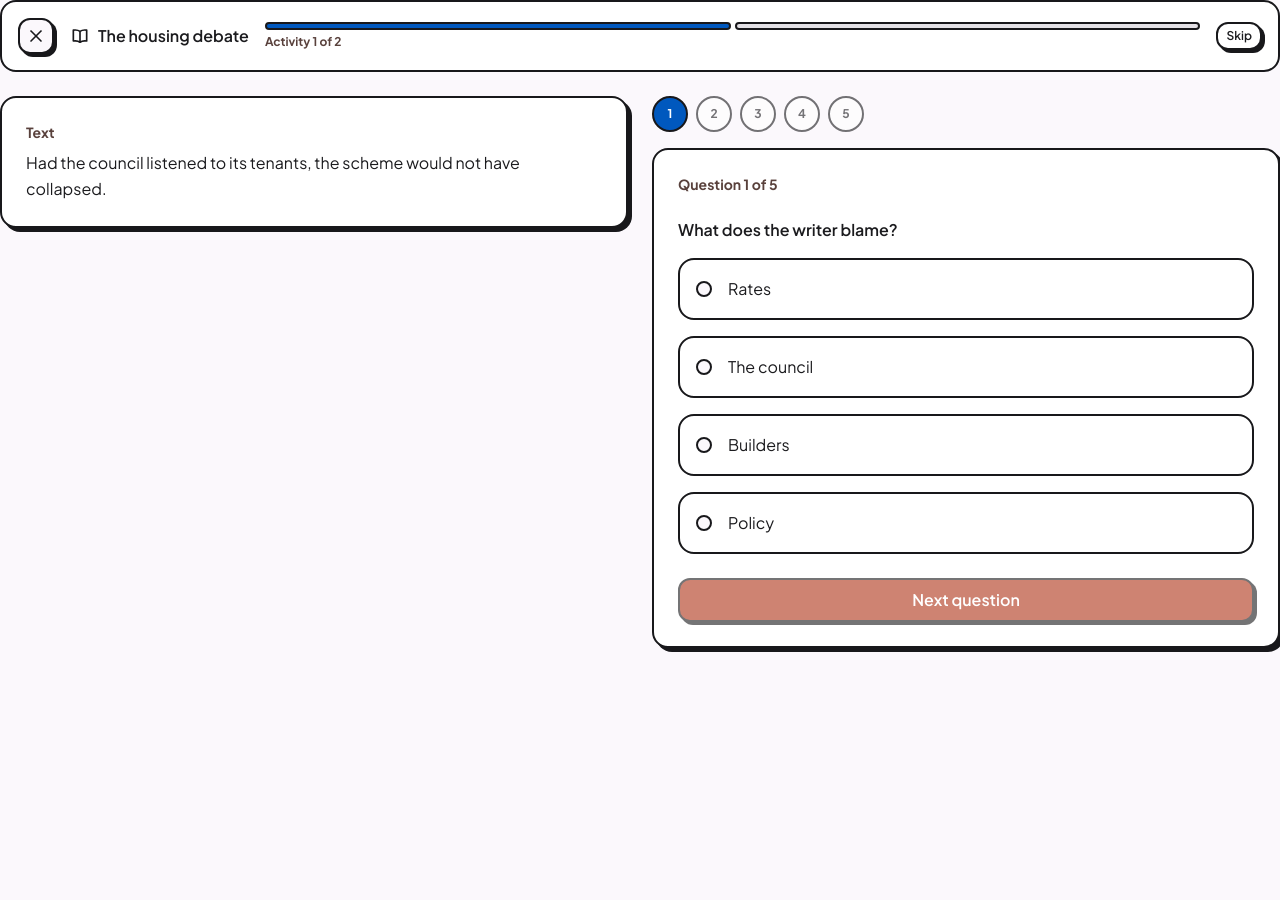
Scenario: ObjectiveRunner: answering › next_locks_the_answer_and_answered_questions_are_read_only
Expected: the element showing "Rates The council Builders Policy" is shown, x1=678 y1=258 x2=1254 y2=554
Step 1. Click the radio button labelled "The council" → (771, 366), box x1=678 y1=336 x2=1254 y2=398
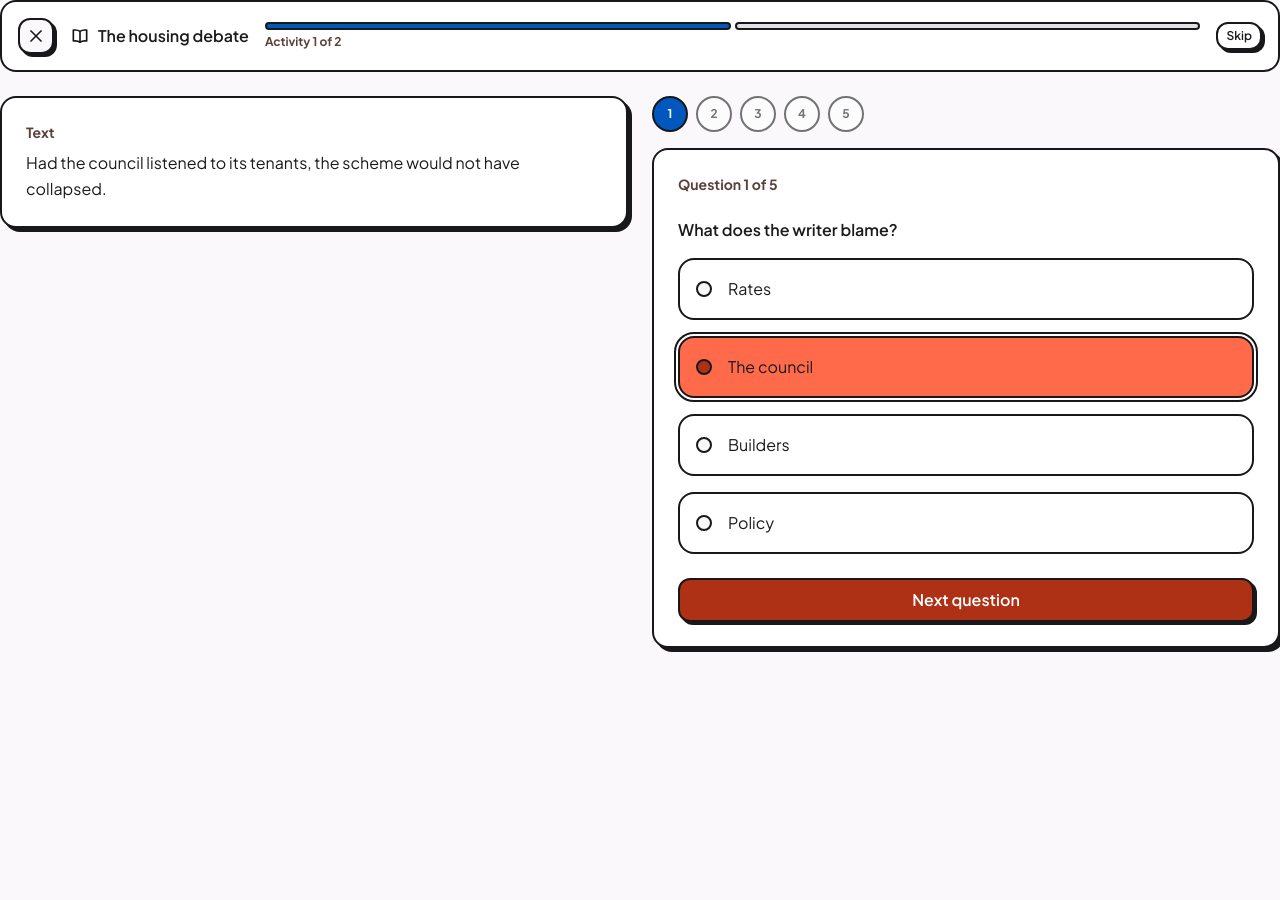
Step 2. Click the button "Next question" → (966, 600), box x1=678 y1=578 x2=1254 y2=622
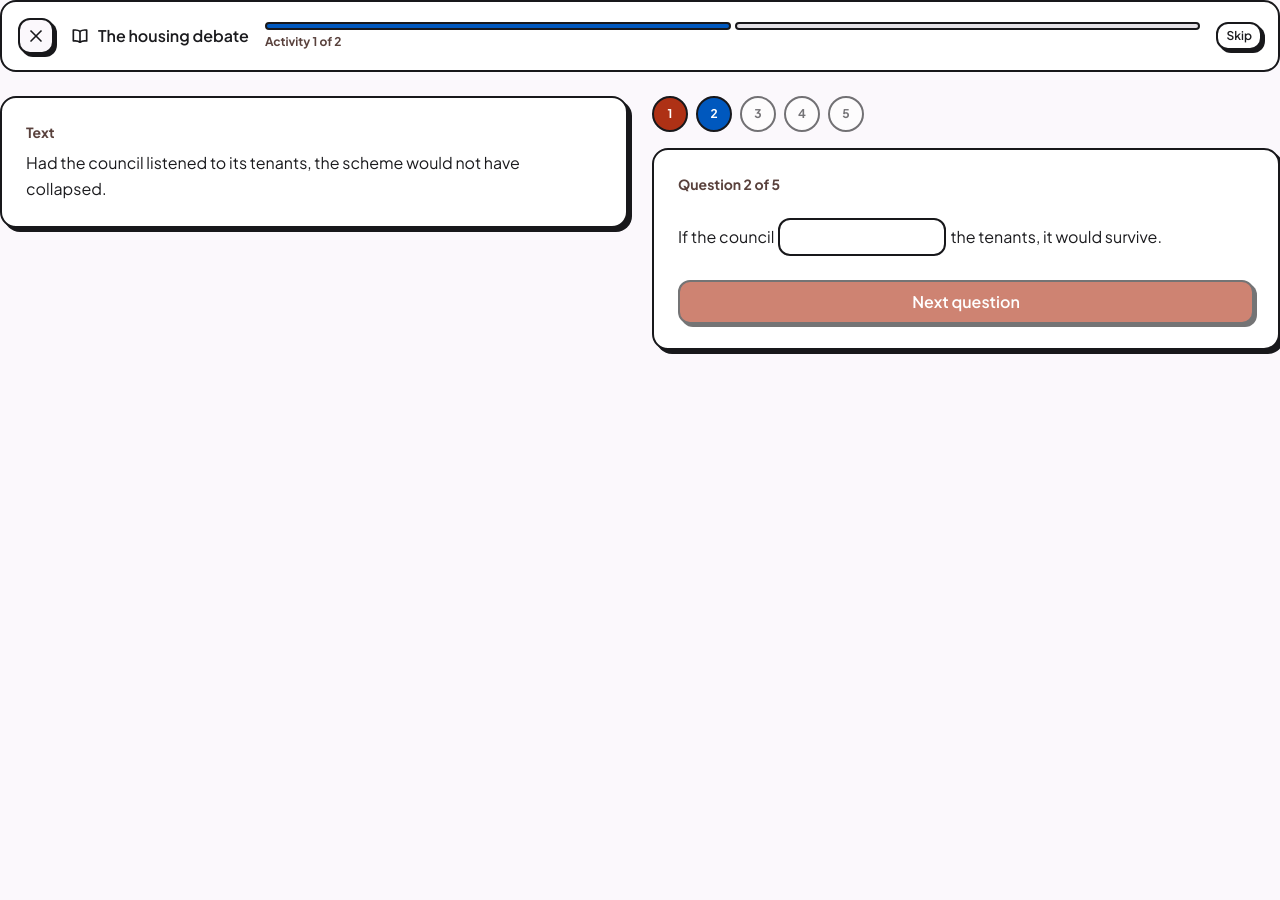
Expected: the heading "Question 2 of 5" is shown, x1=678 y1=175 x2=780 y2=193
Step 3. Click the button named "Question 1, answered" → (670, 114), box x1=652 y1=96 x2=688 y2=132
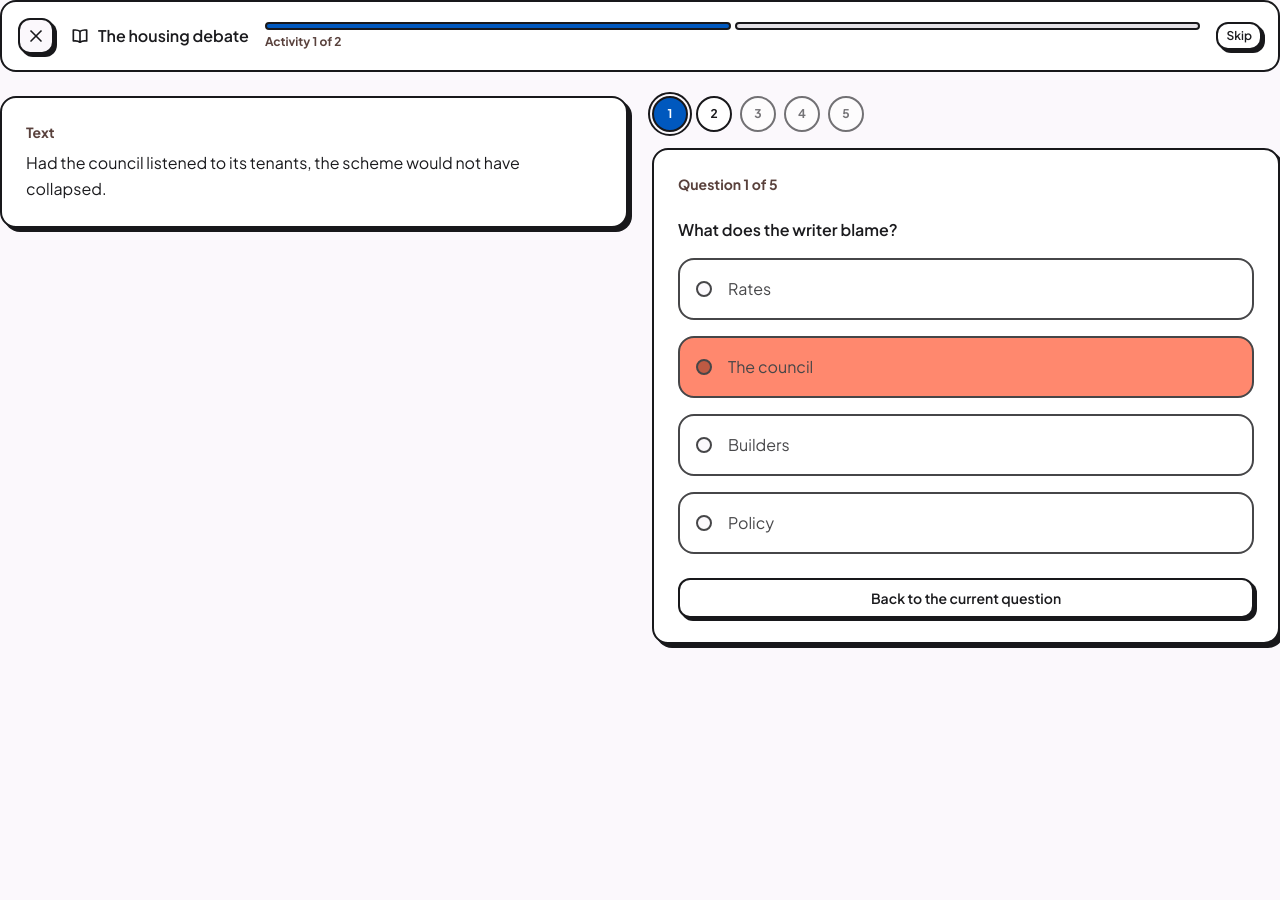
Expected: the heading "Question 1 of 5" is shown, x1=678 y1=175 x2=778 y2=193
Expected: the radio button labelled "The council" is checked, x1=678 y1=336 x2=1254 y2=398
Expected: the radio button labelled "The council" is disabled, x1=678 y1=336 x2=1254 y2=398
Step 4. Click the button "Back to the current question" → (966, 598), box x1=678 y1=578 x2=1254 y2=618
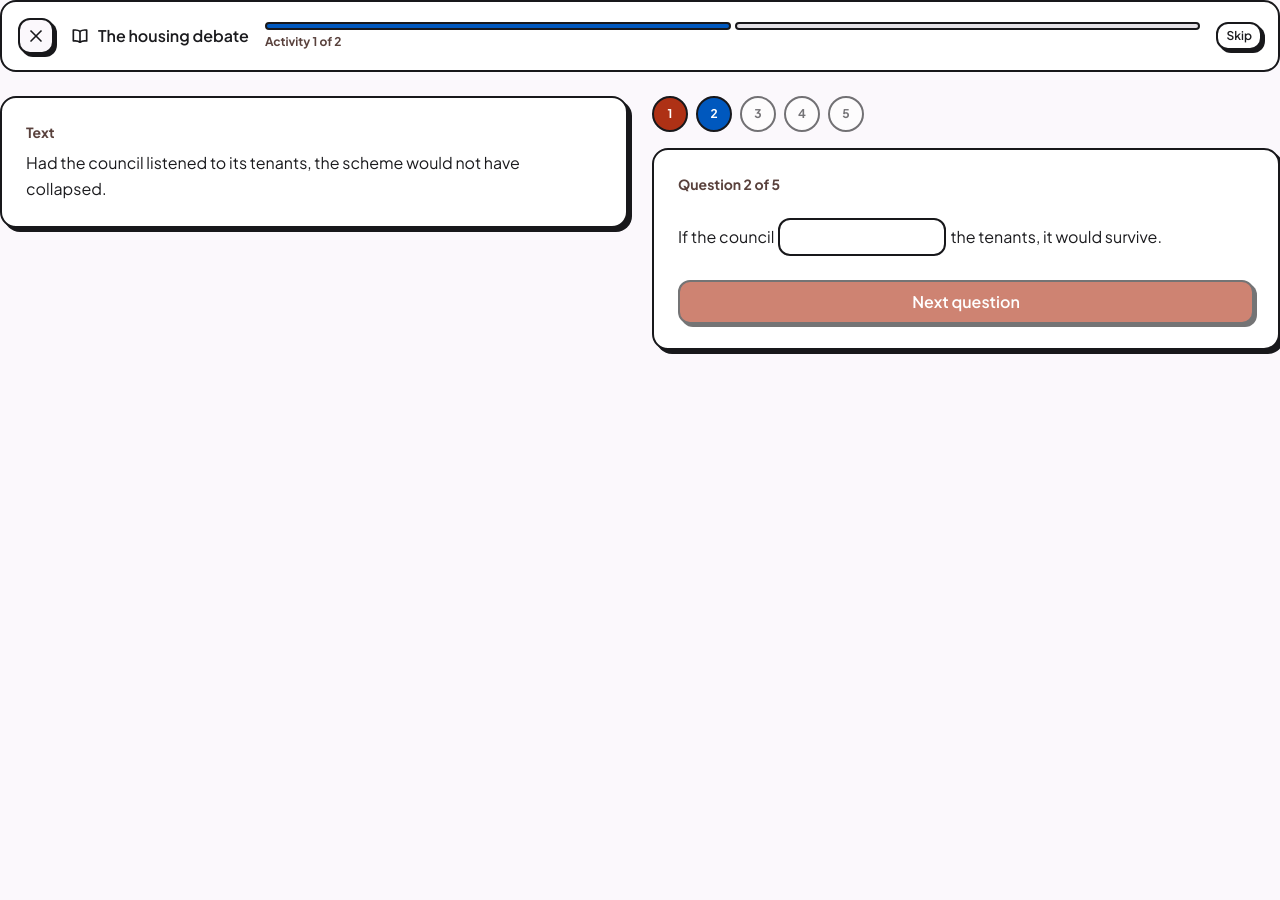
Expected: the heading "Question 2 of 5" is shown, x1=678 y1=175 x2=780 y2=193
